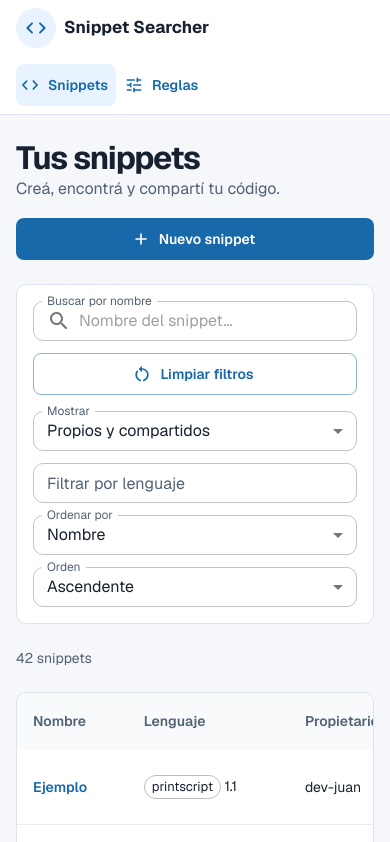
SNI-35 search, pagination and feedback › supports mobile layout, labeled dialogs and returning focus after keyboard dismissal
The image size is (390, 842).
Expected: the navigation bar named "Navegación principal" is shown, 16,64 -> 206,106
Click the button "Nuevo snippet" at (195, 239), box 16,218 -> 374,260
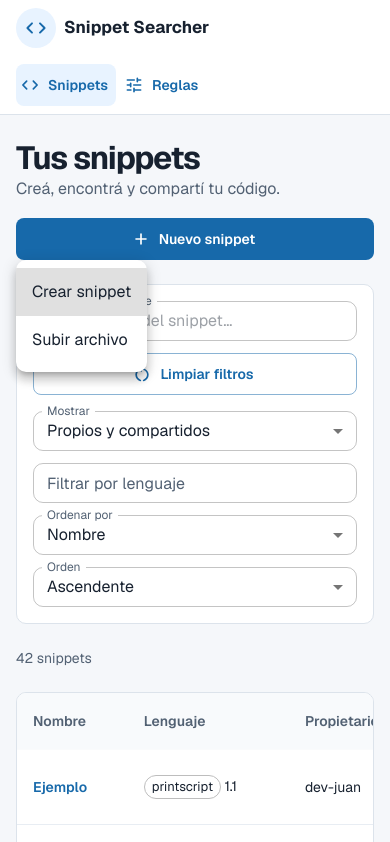
Click the menu item "Crear snippet" at (82, 292), box 16,268 -> 147,316
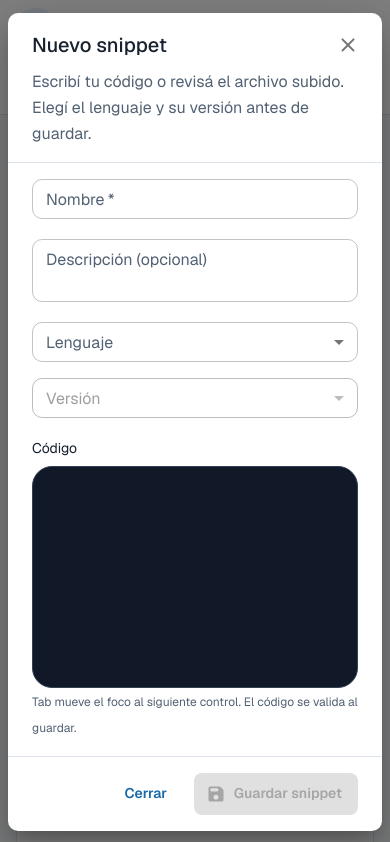
Now the heading "Nuevo snippet" is shown, box 8,14 -> 382,70
Focus the field with id "name" at (195, 199), box 32,179 -> 358,219
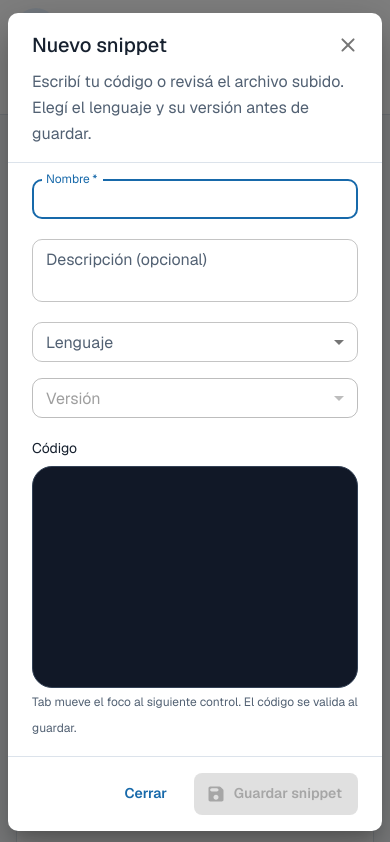
Press Esc in the field with id "name", box 32,179 -> 358,219
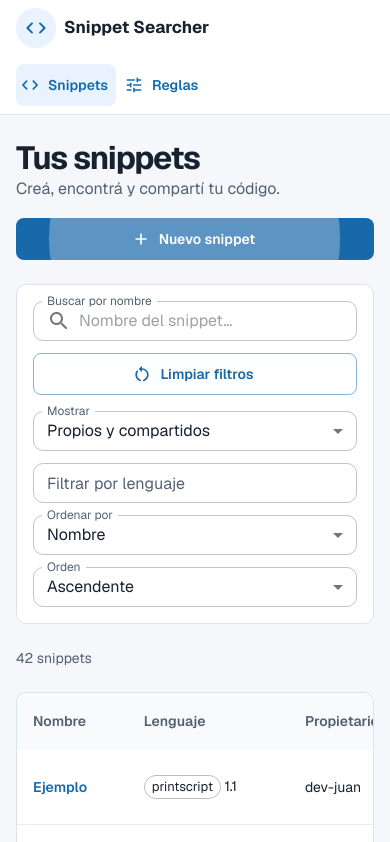
Expected: the button "Nuevo snippet" is shown, 16,218 -> 374,260
Now the dialog is gone
